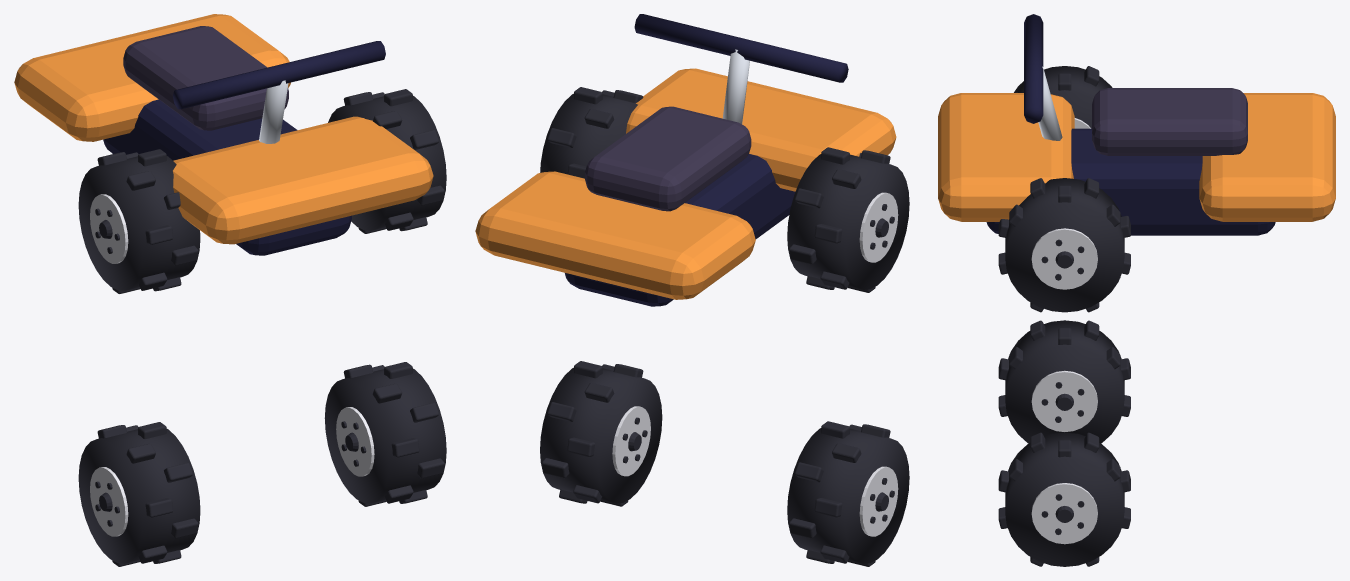
The model's file is Car_Quad.fbx.
3 renders of one model, left to right at view 1: azimuth 30°, elevation 25°; view 2: azimuth 150°, elevation 25°; view 3: azimuth 270°, elevation 25°, orthographic. The views are drawn at different scales.
Parts seen in each view (by area): view 1: Car_Quad, Wheel_FR, Wheel_FL, Wheel_RL, Wheel_RR; view 2: Car_Quad, Wheel_FL, Wheel_FR, Wheel_RL, Wheel_RR; view 3: Car_Quad, Wheel_FR, Wheel_RR, Wheel_FL, Wheel_RL.
Part boxes in pixels (x1,y1,x2,y2): Car_Quad: (14, 14, 433, 255); Wheel_FR: (324, 362, 446, 506); Wheel_FL: (78, 422, 200, 566); Wheel_RL: (78, 149, 200, 293); Wheel_RR: (328, 89, 446, 233); Car_Quad: (475, 14, 896, 306); Wheel_FL: (787, 421, 909, 566); Wheel_FR: (540, 361, 662, 506); Wheel_RL: (787, 147, 909, 292); Wheel_RR: (540, 87, 643, 178); Car_Quad: (938, 14, 1335, 235); Wheel_FR: (998, 432, 1130, 566); Wheel_RR: (998, 178, 1130, 312); Wheel_FL: (998, 320, 1130, 443); Wheel_RL: (1014, 66, 1112, 128).
Size of the model in its own units: 0.8816 by 1.26 by 1.02.
